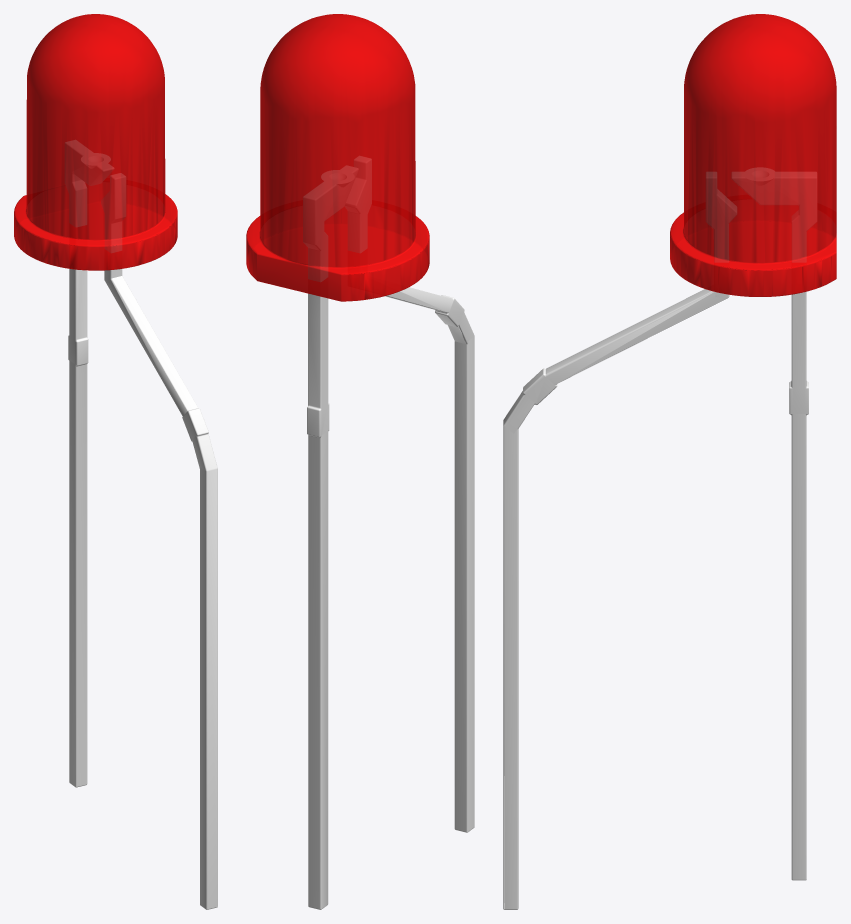
The model's file is led.glb.
3 views of the same model, side by side, from view 1: azimuth 30°, elevation 25°; view 2: azimuth 150°, elevation 25°; view 3: azimuth 270°, elevation 25° (orthographic). The views are drawn at different scales.
Parts seen in each view (by area): view 1: vidro_vermelho_001-material, aluminio_021-material; view 2: vidro_vermelho_001-material, aluminio_021-material; view 3: vidro_vermelho_001-material, aluminio_021-material.
Boxes of the visible parts, x1,y1,x2,y2 form: vidro_vermelho_001-material: (14,14,177,270); aluminio_021-material: (65,140,217,909); vidro_vermelho_001-material: (246,14,429,301); aluminio_021-material: (303,156,474,909); vidro_vermelho_001-material: (670,14,836,296); aluminio_021-material: (503,168,816,909).
Bounding box in the file's own units: 0.00596 × 0.0323 × 0.011.
